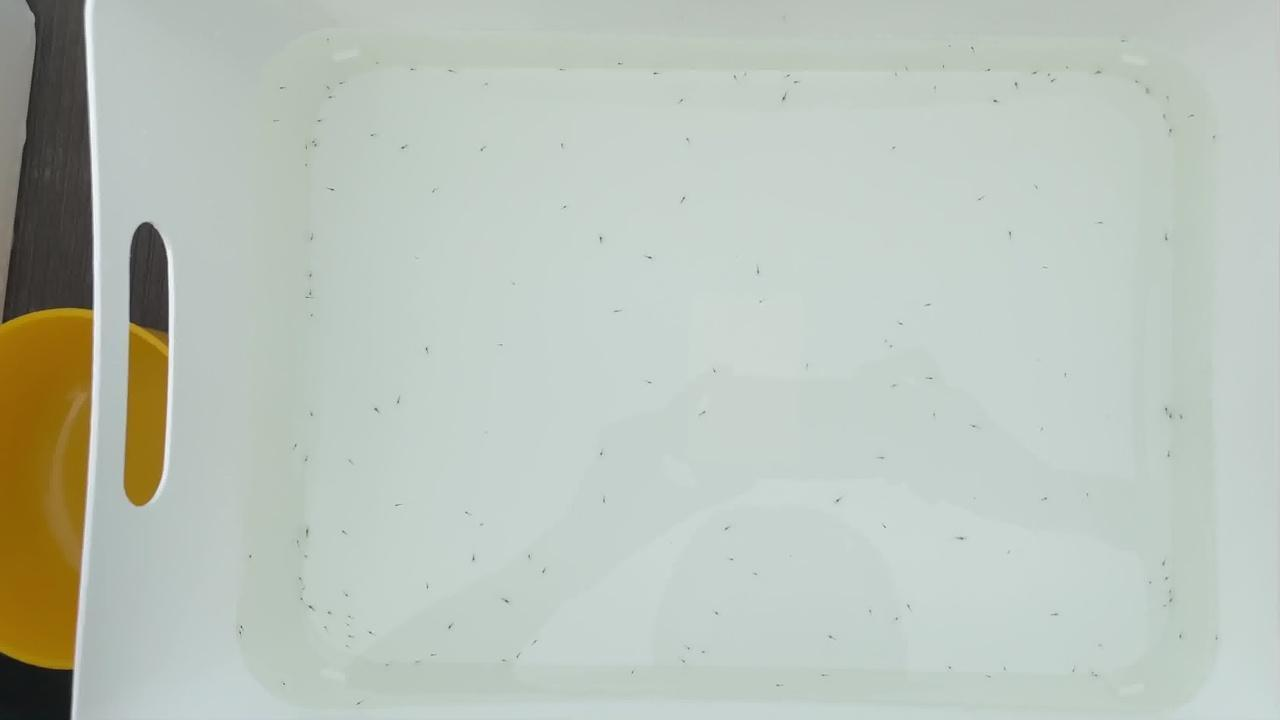shrimp: (1167, 129, 1180, 137), (1164, 90, 1177, 98), (1090, 68, 1103, 76), (1046, 79, 1059, 87), (1042, 68, 1055, 76), (1027, 68, 1040, 76), (1012, 79, 1025, 87), (987, 96, 1000, 104), (981, 68, 994, 76), (892, 68, 905, 76), (793, 80, 806, 88), (780, 68, 793, 76), (444, 69, 457, 77), (391, 395, 404, 403), (307, 412, 320, 420), (302, 456, 315, 464), (302, 584, 315, 592), (325, 611, 338, 619), (390, 500, 403, 508), (425, 650, 438, 658), (795, 362, 808, 370), (864, 606, 877, 614), (947, 666, 960, 674), (1069, 666, 1082, 674), (1082, 490, 1095, 498), (1211, 633, 1224, 641), (1160, 561, 1173, 569), (967, 423, 980, 431), (335, 79, 347, 87), (313, 118, 325, 126), (479, 146, 491, 154), (308, 285, 320, 293), (308, 306, 320, 314), (347, 633, 359, 641), (319, 622, 331, 630), (413, 656, 425, 664), (612, 306, 624, 314), (723, 522, 735, 530), (823, 633, 835, 641), (1166, 600, 1178, 608), (1184, 113, 1197, 120), (1163, 114, 1176, 121), (1153, 115, 1166, 122), (1129, 74, 1142, 81), (1114, 37, 1127, 44), (1063, 66, 1076, 73), (937, 64, 950, 71), (929, 87, 942, 94), (902, 64, 915, 71), (741, 74, 754, 81), (733, 76, 746, 83), (672, 95, 685, 102), (683, 136, 696, 143), (649, 73, 662, 80), (615, 59, 628, 66), (557, 67, 570, 74), (481, 82, 494, 89), (405, 67, 418, 74), (373, 61, 386, 68), (322, 38, 335, 45), (326, 95, 339, 102), (322, 83, 335, 90), (278, 84, 291, 91), (265, 117, 278, 124), (300, 159, 313, 166), (300, 144, 313, 151), (310, 144, 323, 151), (308, 139, 321, 146), (366, 134, 379, 141), (557, 142, 570, 149), (560, 205, 573, 212), (428, 187, 441, 194), (325, 188, 338, 195), (308, 230, 321, 237), (305, 270, 318, 277), (300, 294, 313, 301), (423, 345, 436, 352), (369, 410, 382, 417), (341, 455, 354, 462), (301, 531, 314, 538), (298, 557, 311, 564), (294, 542, 307, 549), (298, 574, 311, 581), (295, 597, 308, 604), (245, 550, 258, 557), (237, 631, 250, 638), (279, 681, 292, 688), (385, 658, 398, 665), (364, 627, 377, 634), (342, 640, 355, 647), (341, 621, 354, 628), (342, 610, 355, 617), (341, 590, 354, 597), (420, 579, 433, 586), (467, 553, 480, 560), (541, 569, 554, 576), (503, 598, 516, 605), (445, 623, 458, 630), (493, 658, 506, 665), (510, 651, 523, 658), (527, 638, 540, 645), (601, 500, 614, 507), (595, 449, 608, 456), (594, 236, 607, 243), (757, 299, 770, 306), (750, 265, 763, 272), (699, 408, 712, 415), (624, 665, 637, 672), (677, 657, 690, 664), (679, 644, 692, 651), (711, 602, 724, 609), (751, 567, 764, 574), (723, 556, 736, 563), (831, 497, 844, 504), (771, 680, 784, 687), (821, 672, 834, 679), (893, 616, 906, 623), (901, 602, 914, 609), (981, 674, 994, 681), (999, 666, 1012, 673), (1086, 674, 1099, 681), (1094, 644, 1107, 651), (1049, 613, 1062, 620), (951, 534, 964, 541), (879, 527, 892, 534), (1001, 549, 1014, 556), (1037, 499, 1050, 506), (1175, 636, 1188, 643), (1160, 575, 1173, 582), (1146, 579, 1159, 586), (1164, 452, 1177, 459), (1176, 414, 1189, 421), (1167, 415, 1180, 422), (1160, 407, 1173, 414), (1160, 236, 1173, 243), (1095, 220, 1108, 227), (1031, 185, 1044, 192), (978, 197, 991, 204), (886, 148, 899, 155), (895, 322, 908, 329), (888, 342, 901, 349), (880, 339, 893, 346), (891, 383, 904, 390), (926, 372, 939, 379), (929, 411, 942, 418), (875, 452, 888, 459), (1033, 426, 1046, 433), (1058, 370, 1071, 377), (1211, 135, 1223, 142), (1144, 87, 1156, 94), (967, 48, 979, 55), (778, 97, 790, 104), (396, 144, 408, 151), (291, 442, 303, 449), (341, 529, 353, 536), (308, 601, 320, 608), (236, 622, 248, 629), (352, 702, 364, 709), (463, 509, 475, 516), (479, 524, 491, 531), (524, 554, 536, 561), (679, 193, 691, 200), (645, 254, 657, 261), (707, 367, 719, 374), (640, 377, 652, 384), (701, 652, 713, 659), (1155, 606, 1167, 613), (1166, 589, 1178, 596), (1006, 230, 1018, 237), (923, 301, 935, 308)
